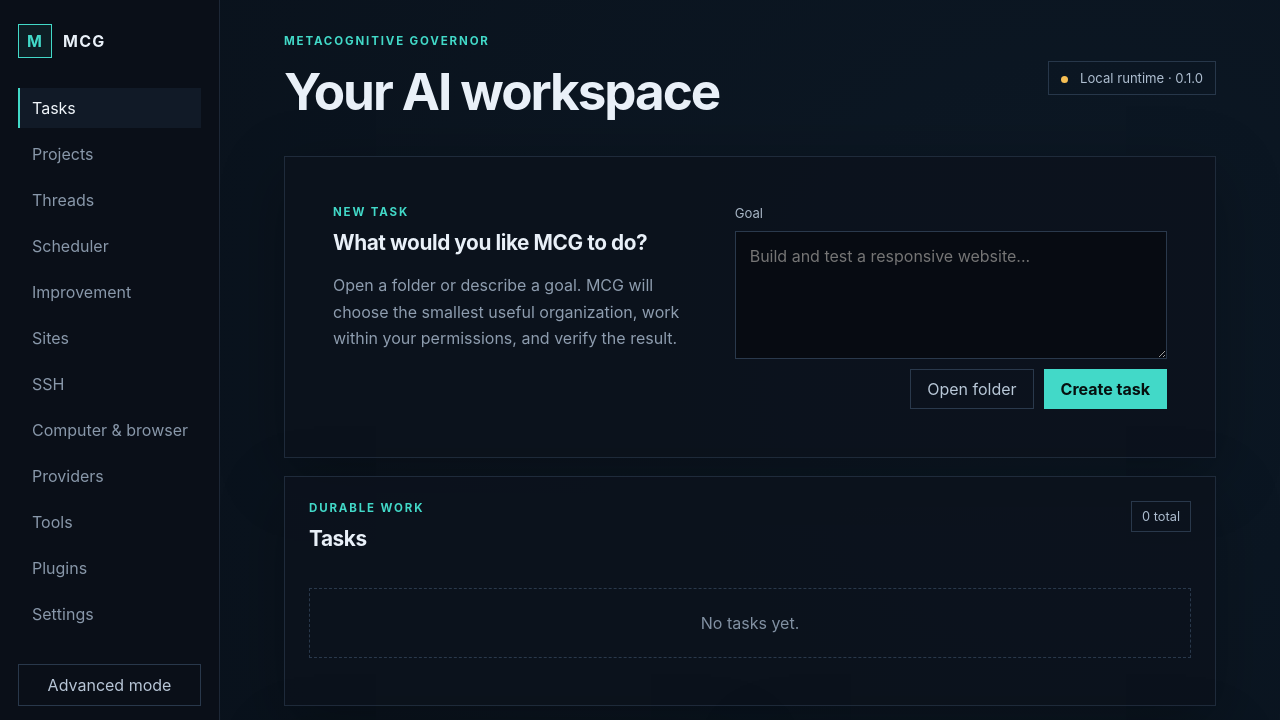
Test: advanced mode reveals runtime details
Expected: the heading "Runtime status" is not shown
Click the button "Advanced mode".
click(110, 685)  # box [18,664,201,706]
(page scrolled)
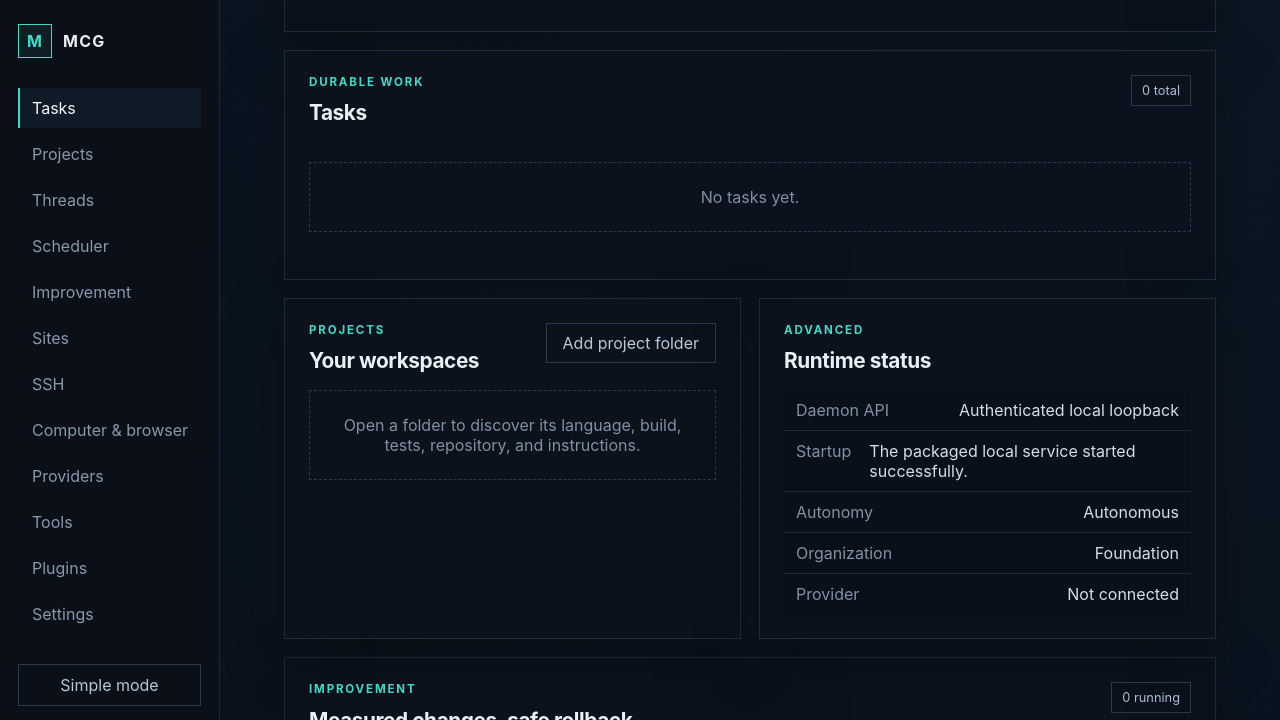
Expected: the button "Simple mode" is shown, [18,664,201,706]
Expected: the heading "Runtime status" is shown, [784,348,931,373]
